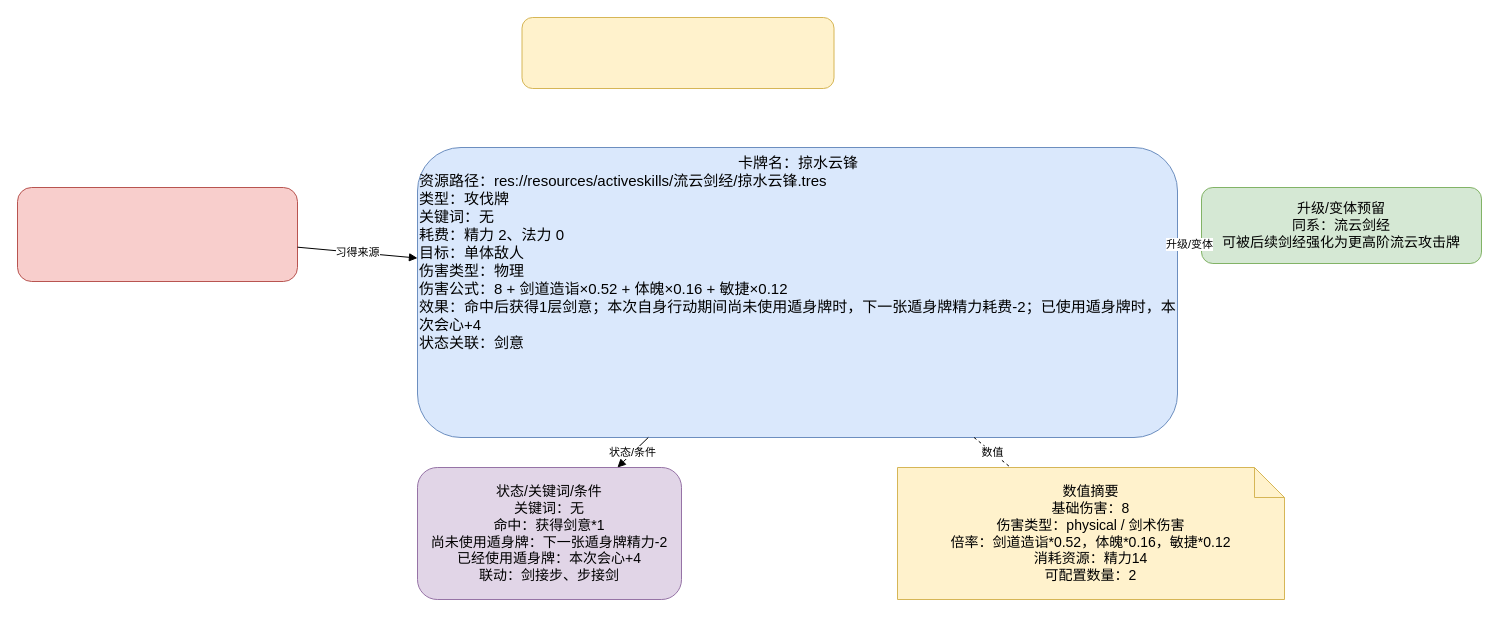
Image size: 1499x617. Some labels were removed from this diagram. Here are the shapes that lost their labels. From the top down, the centre of each, then its label:
[677,52]: 掠水云锋 流云剑经 / 照水卷 / 习得*2
[157,234]: 习得来源 来源秘籍：流云剑经 来源卷：照水卷 习得数量：2
